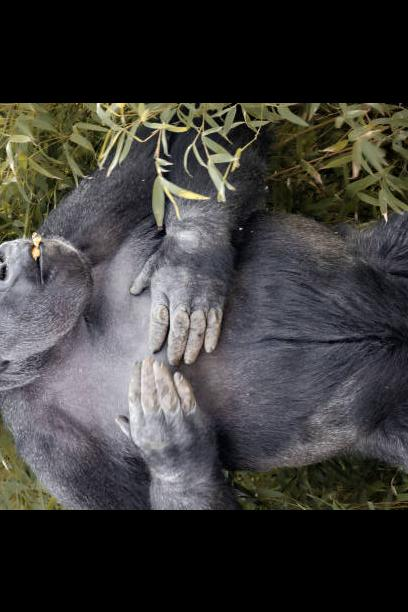gorille_Autres: (0, 121, 408, 510)
